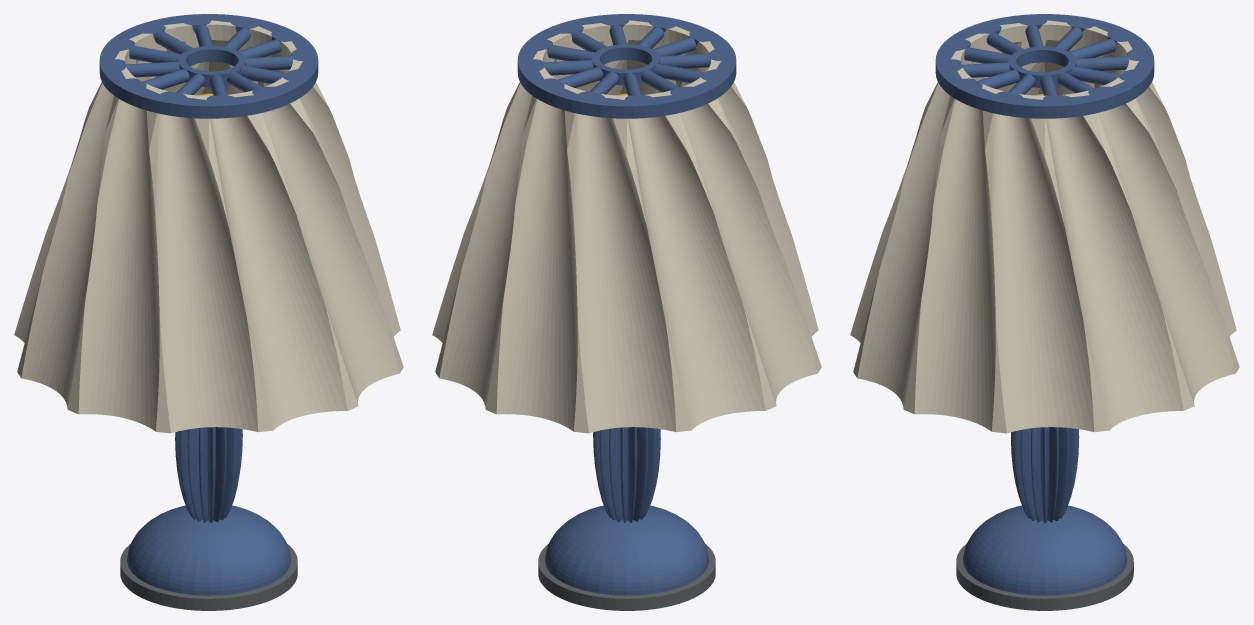
The model's file is Mighty Leelo (1).glb.
The picture shows the model from 3 angles, left to right: view 1: azimuth 30°, elevation 25°; view 2: azimuth 150°, elevation 25°; view 3: azimuth 270°, elevation 25°; orthographic projection.
Visible parts, largest first — view 1: Mesh_Mesh_head_geo.001_lambert2SG.001; view 2: Mesh_Mesh_head_geo.001_lambert2SG.001; view 3: Mesh_Mesh_head_geo.001_lambert2SG.001.
Boxes of the visible parts, bbox=[...] form: Mesh_Mesh_head_geo.001_lambert2SG.001: bbox=[14, 14, 403, 610]; Mesh_Mesh_head_geo.001_lambert2SG.001: bbox=[432, 14, 821, 610]; Mesh_Mesh_head_geo.001_lambert2SG.001: bbox=[850, 14, 1239, 610].
Size of the model in its own units: 0.0261 by 0.038 by 0.0261.
